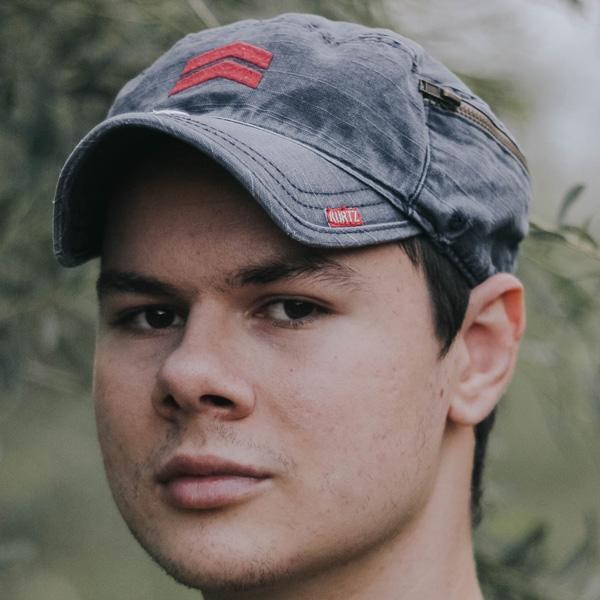Eyes: (240, 281, 351, 347), (105, 283, 189, 352)
